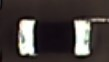COMP: (13, 13, 96, 59)
STAN: (90, 14, 109, 25)
